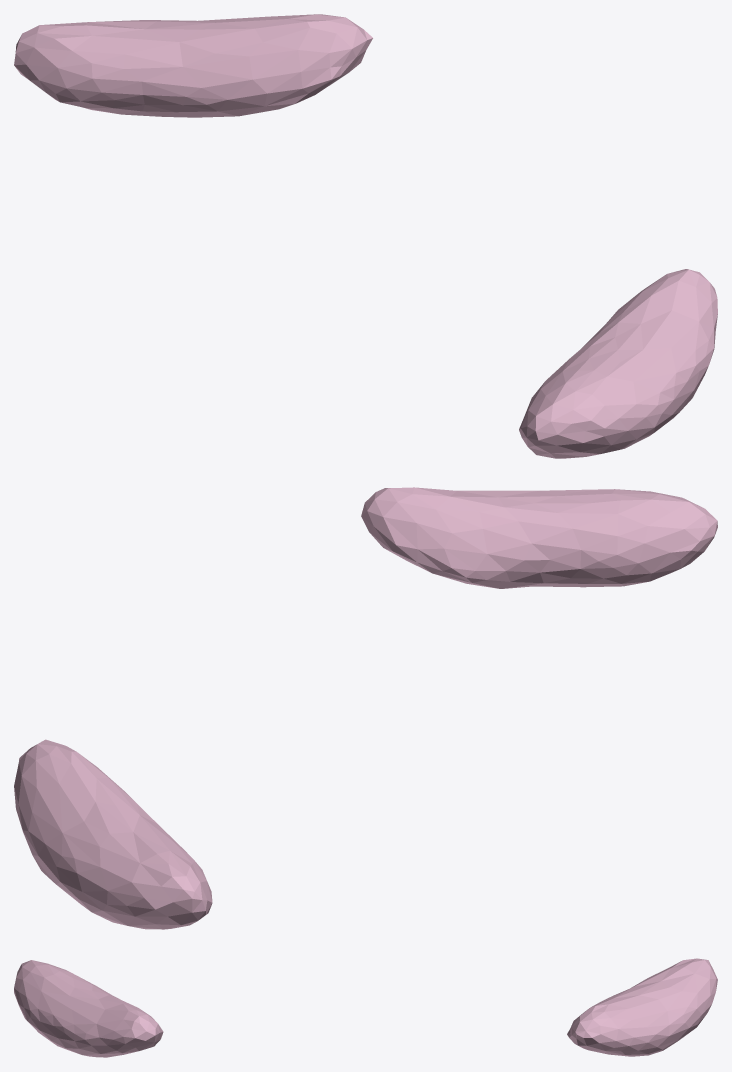
3 views of the same model, one above another, from view 1: azimuth 30°, elevation 25°; view 2: azimuth 150°, elevation 25°; view 3: azimuth 270°, elevation 25° (orthographic). The views are drawn at different scales.
Visible parts, largest first — view 1: 903.obj; view 2: 903.obj; view 3: 903.obj.
Part boxes in pixels (box(x1,y1,x2,y2)): 903.obj: box(14, 14, 717, 458); 903.obj: box(14, 487, 717, 929); 903.obj: box(14, 958, 717, 1057).
Bounding box in the file's own units: 981 × 351 × 3401.
